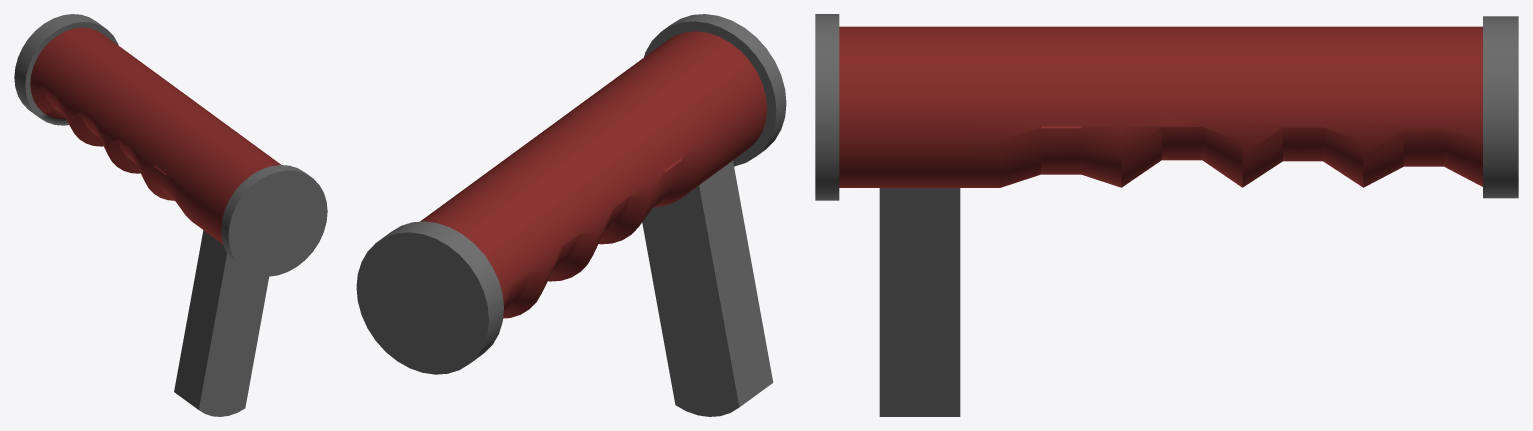
File: Throttle_Handel_Rod.fbx
3 views of the same model, side by side, from view 1: azimuth 30°, elevation 25°; view 2: azimuth 150°, elevation 25°; view 3: azimuth 270°, elevation 25° (orthographic). The views are drawn at different scales.
Parts seen in each view (by area): view 1: throdel_handel.001; view 2: throdel_handel.001; view 3: throdel_handel.001.
Boxes of the visible parts, x1,y1,x2,y2 form: throdel_handel.001: [14, 14, 327, 416]; throdel_handel.001: [356, 14, 786, 416]; throdel_handel.001: [815, 14, 1518, 416].
Bounding box in the file's own units: 30.99 × 68.16 × 106.
